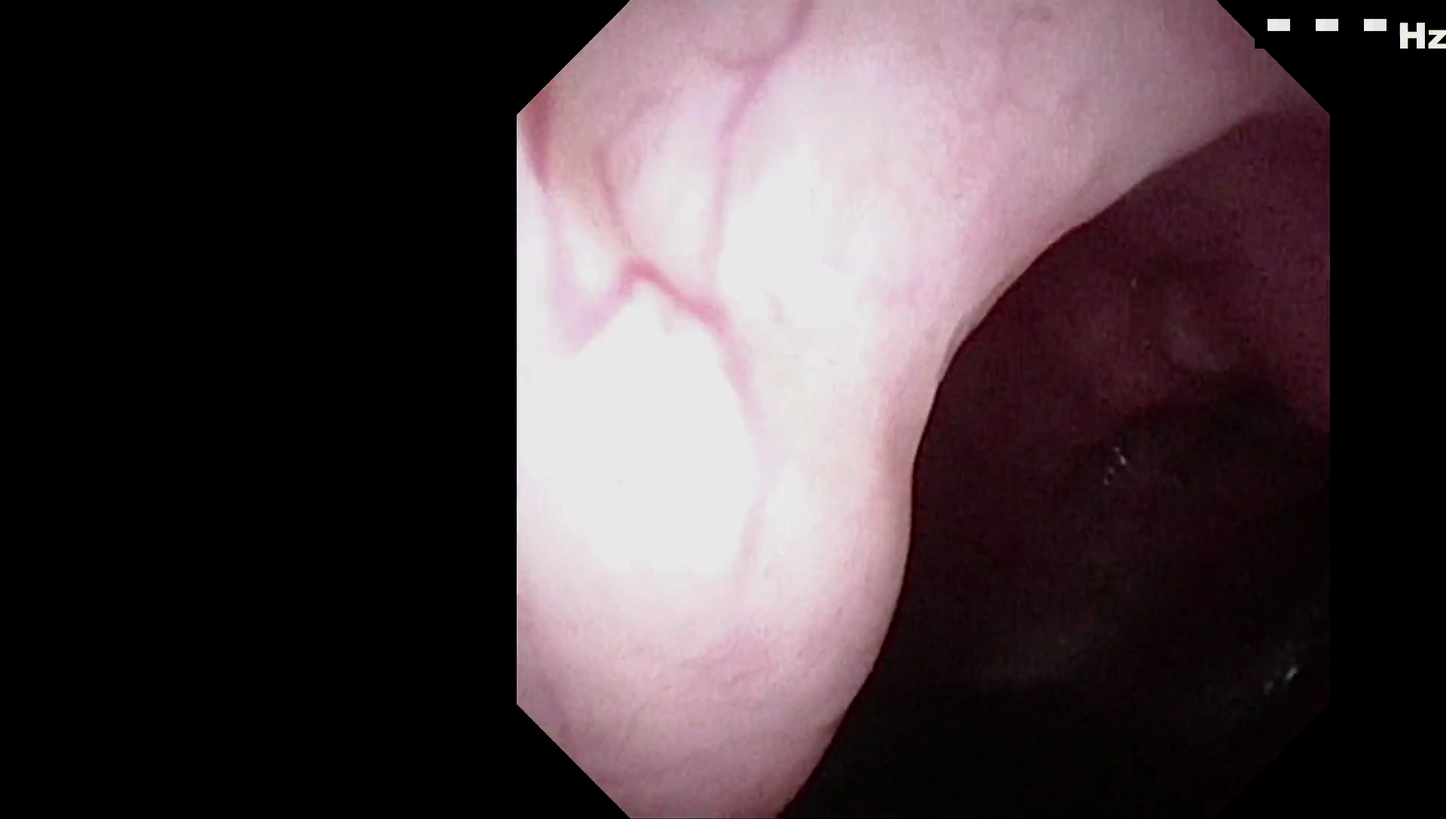close_wall: (520, 22, 1208, 818)
next: (810, 537, 1312, 819)
